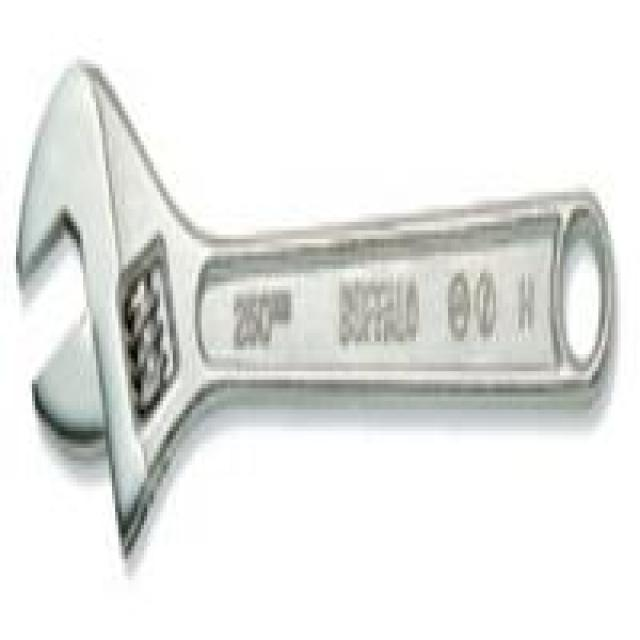wrench: (16, 16, 640, 563)
